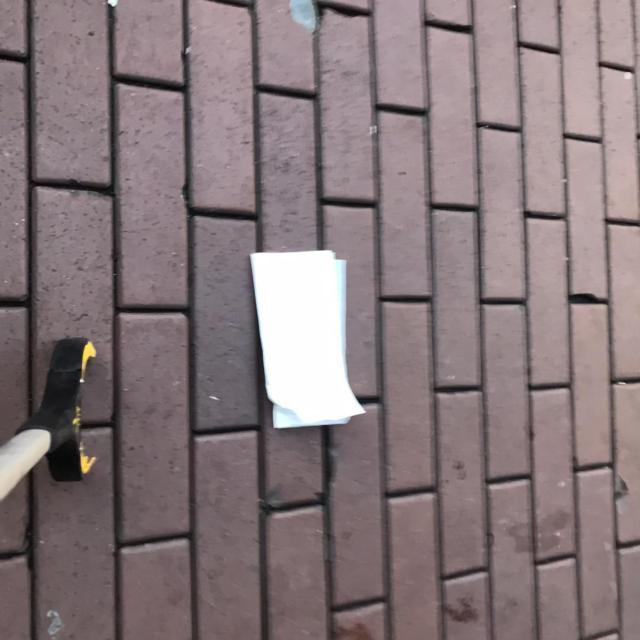Paper: (248, 247, 370, 431)
